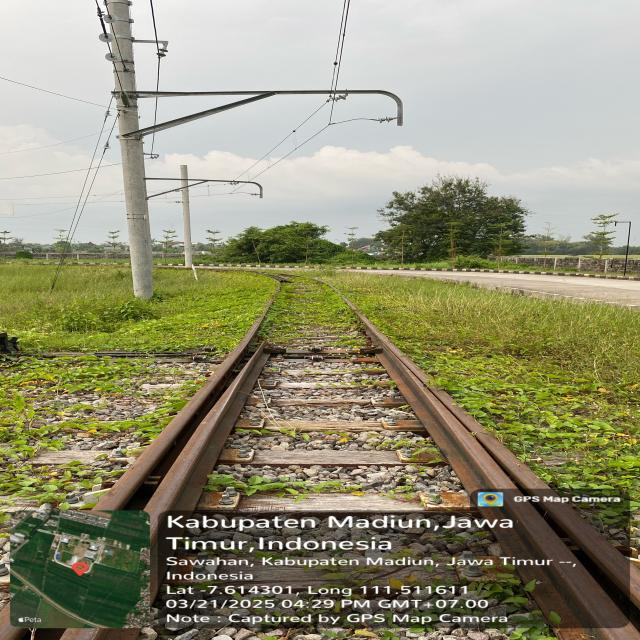rail-detection: (344, 299, 640, 640), (93, 322, 269, 589)
